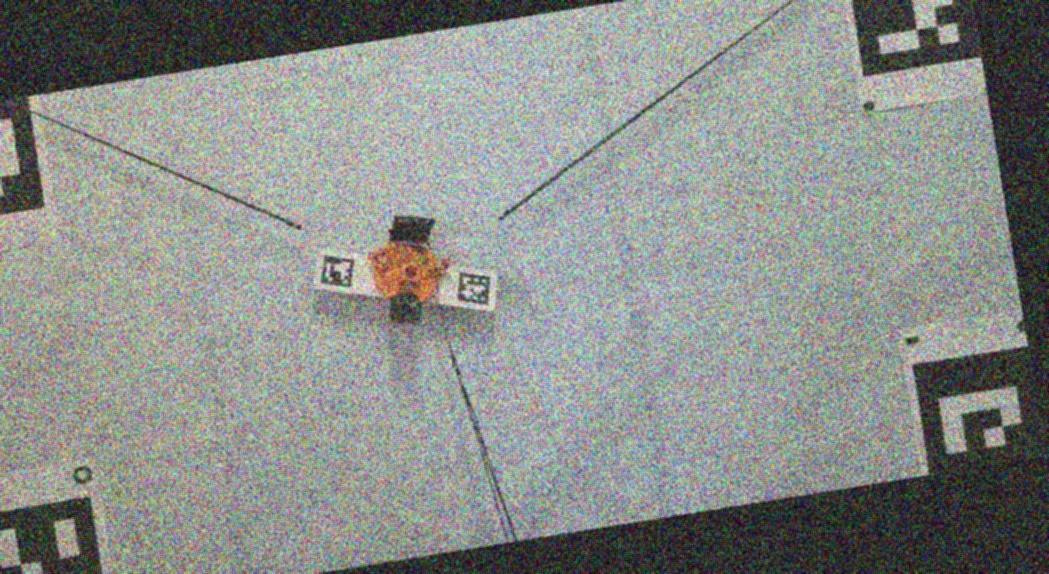robot: (368, 214, 450, 325)
